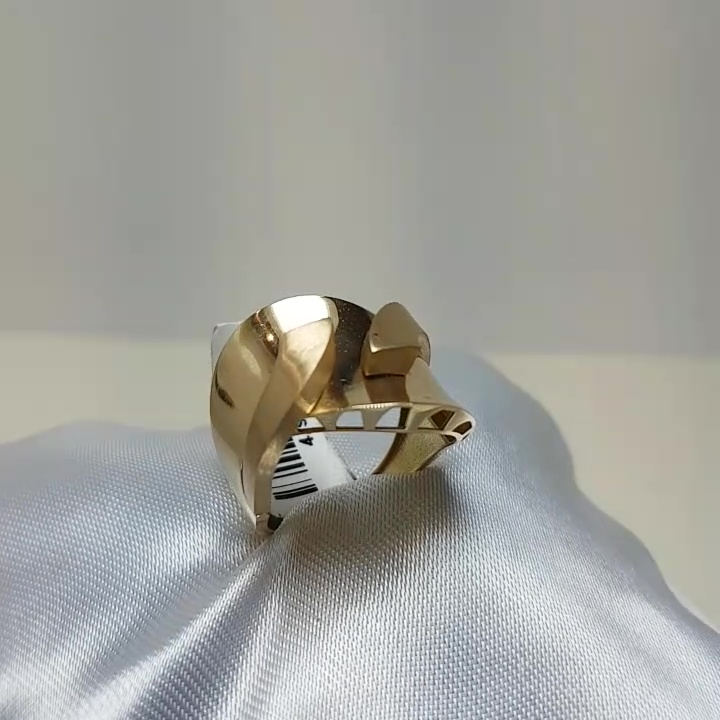Ring 4: (185, 266, 481, 558)
